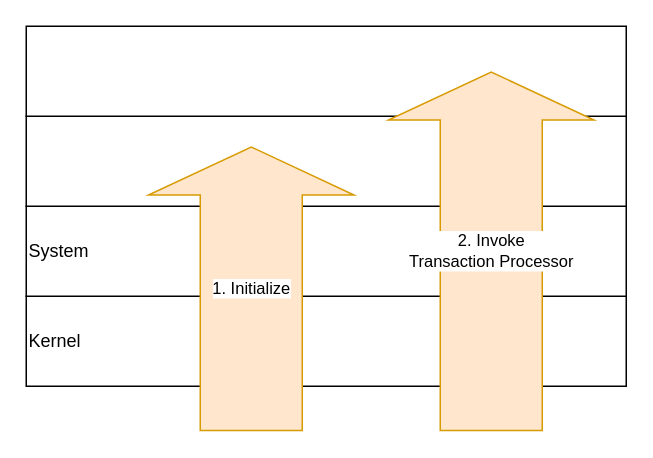
Some shapes in this 653 by 458 pixel diagram are drawn without their labels. Each missing label, with the box of its shape:
Application: (25, 25, 626, 116)
VM: (25, 115, 626, 206)
